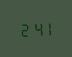four: (30, 20, 40, 36)
one: (41, 19, 51, 36)
two: (18, 20, 28, 37)
